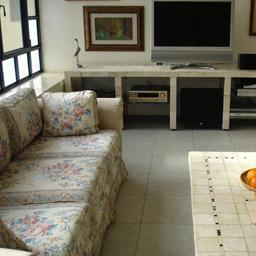Ventana: (1, 2, 40, 83)
